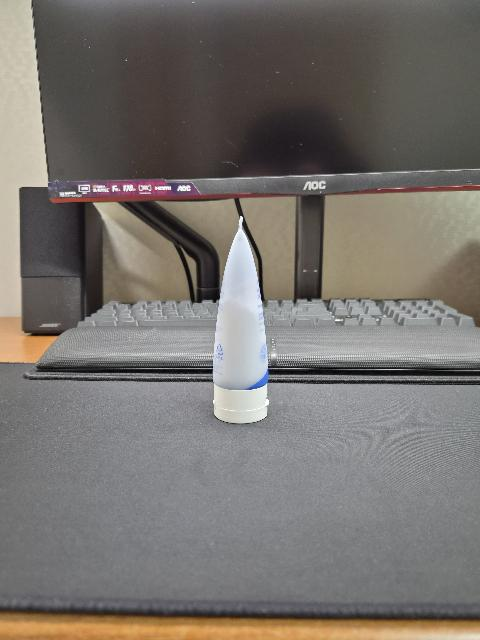handcream: (213, 216, 270, 424)
